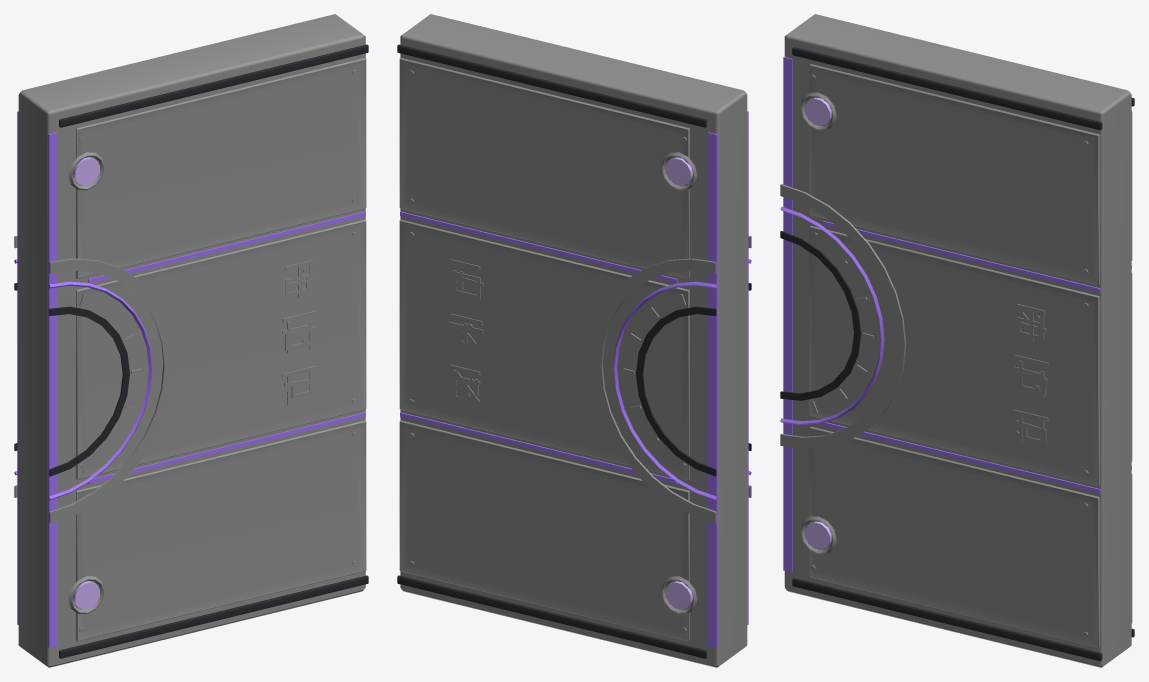
File: Vault_LockDoor_Half.fbx
The picture shows the model from 3 angles, left to right: view 1: azimuth 30°, elevation 25°; view 2: azimuth 150°, elevation 25°; view 3: azimuth 330°, elevation 25°; orthographic projection.
Parts seen in each view (by area): view 1: Vault_LockDoor_Half_LOD0; view 2: Vault_LockDoor_Half_LOD0; view 3: Vault_LockDoor_Half_LOD0.
Part boxes in pixels (bbox=[...]): Vault_LockDoor_Half_LOD0: bbox=[14, 14, 368, 667]; Vault_LockDoor_Half_LOD0: bbox=[397, 14, 751, 667]; Vault_LockDoor_Half_LOD0: bbox=[780, 14, 1134, 667].
Size of what is drawn, in the model's own units: 3 by 5 by 0.59.
